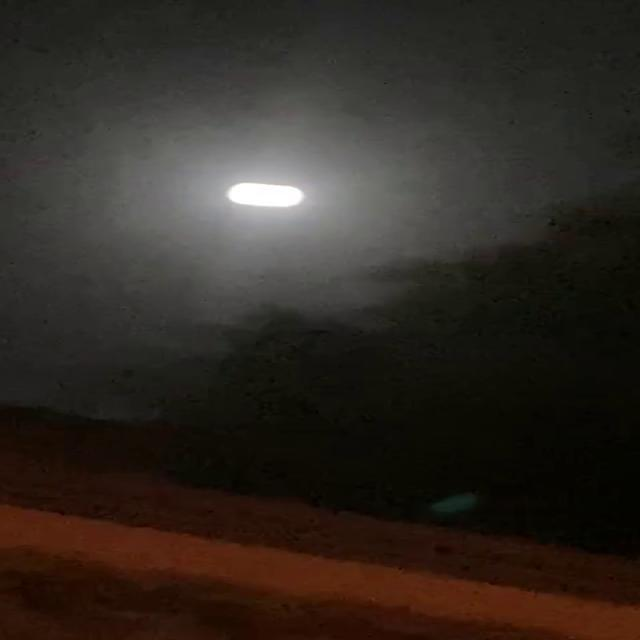moon: (232, 178, 315, 216)
